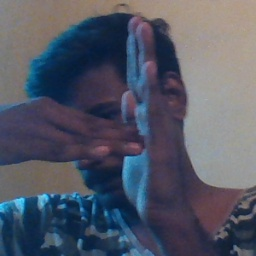Z: (54, 17, 190, 221)
